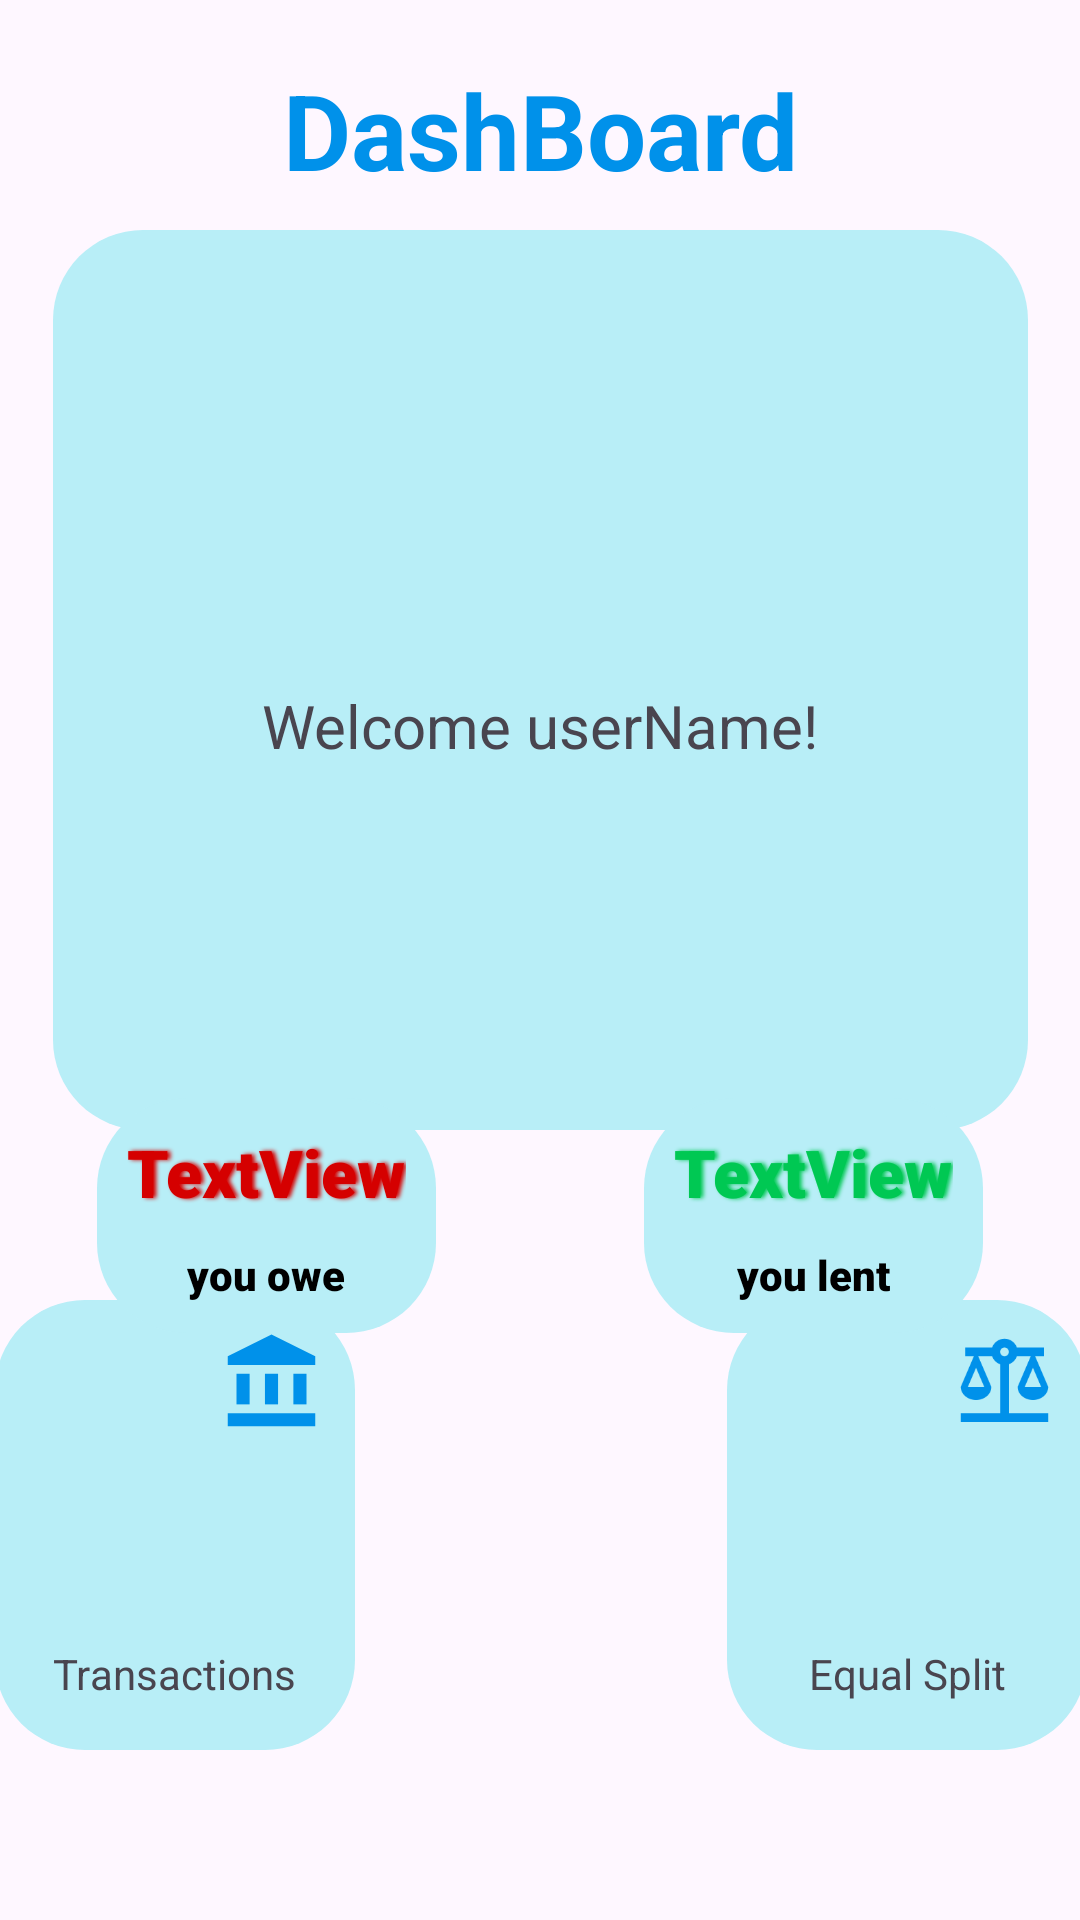

Where to tap for icons on this 1080×1920 app screen, as (x,y):
account balance: (271,1380)
balance: (1004,1380)
